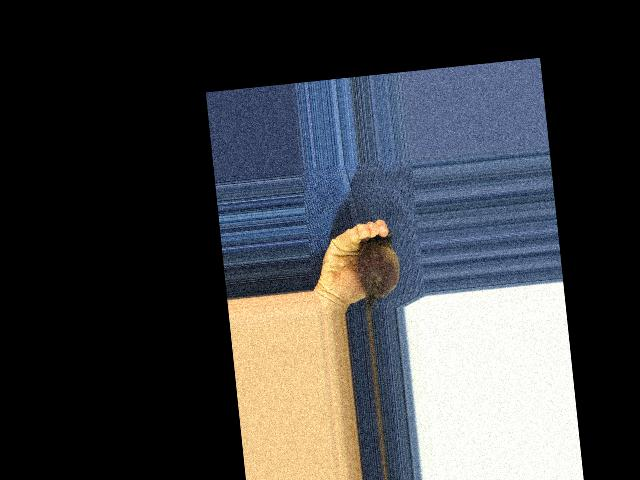beet: (352, 229, 403, 311)
